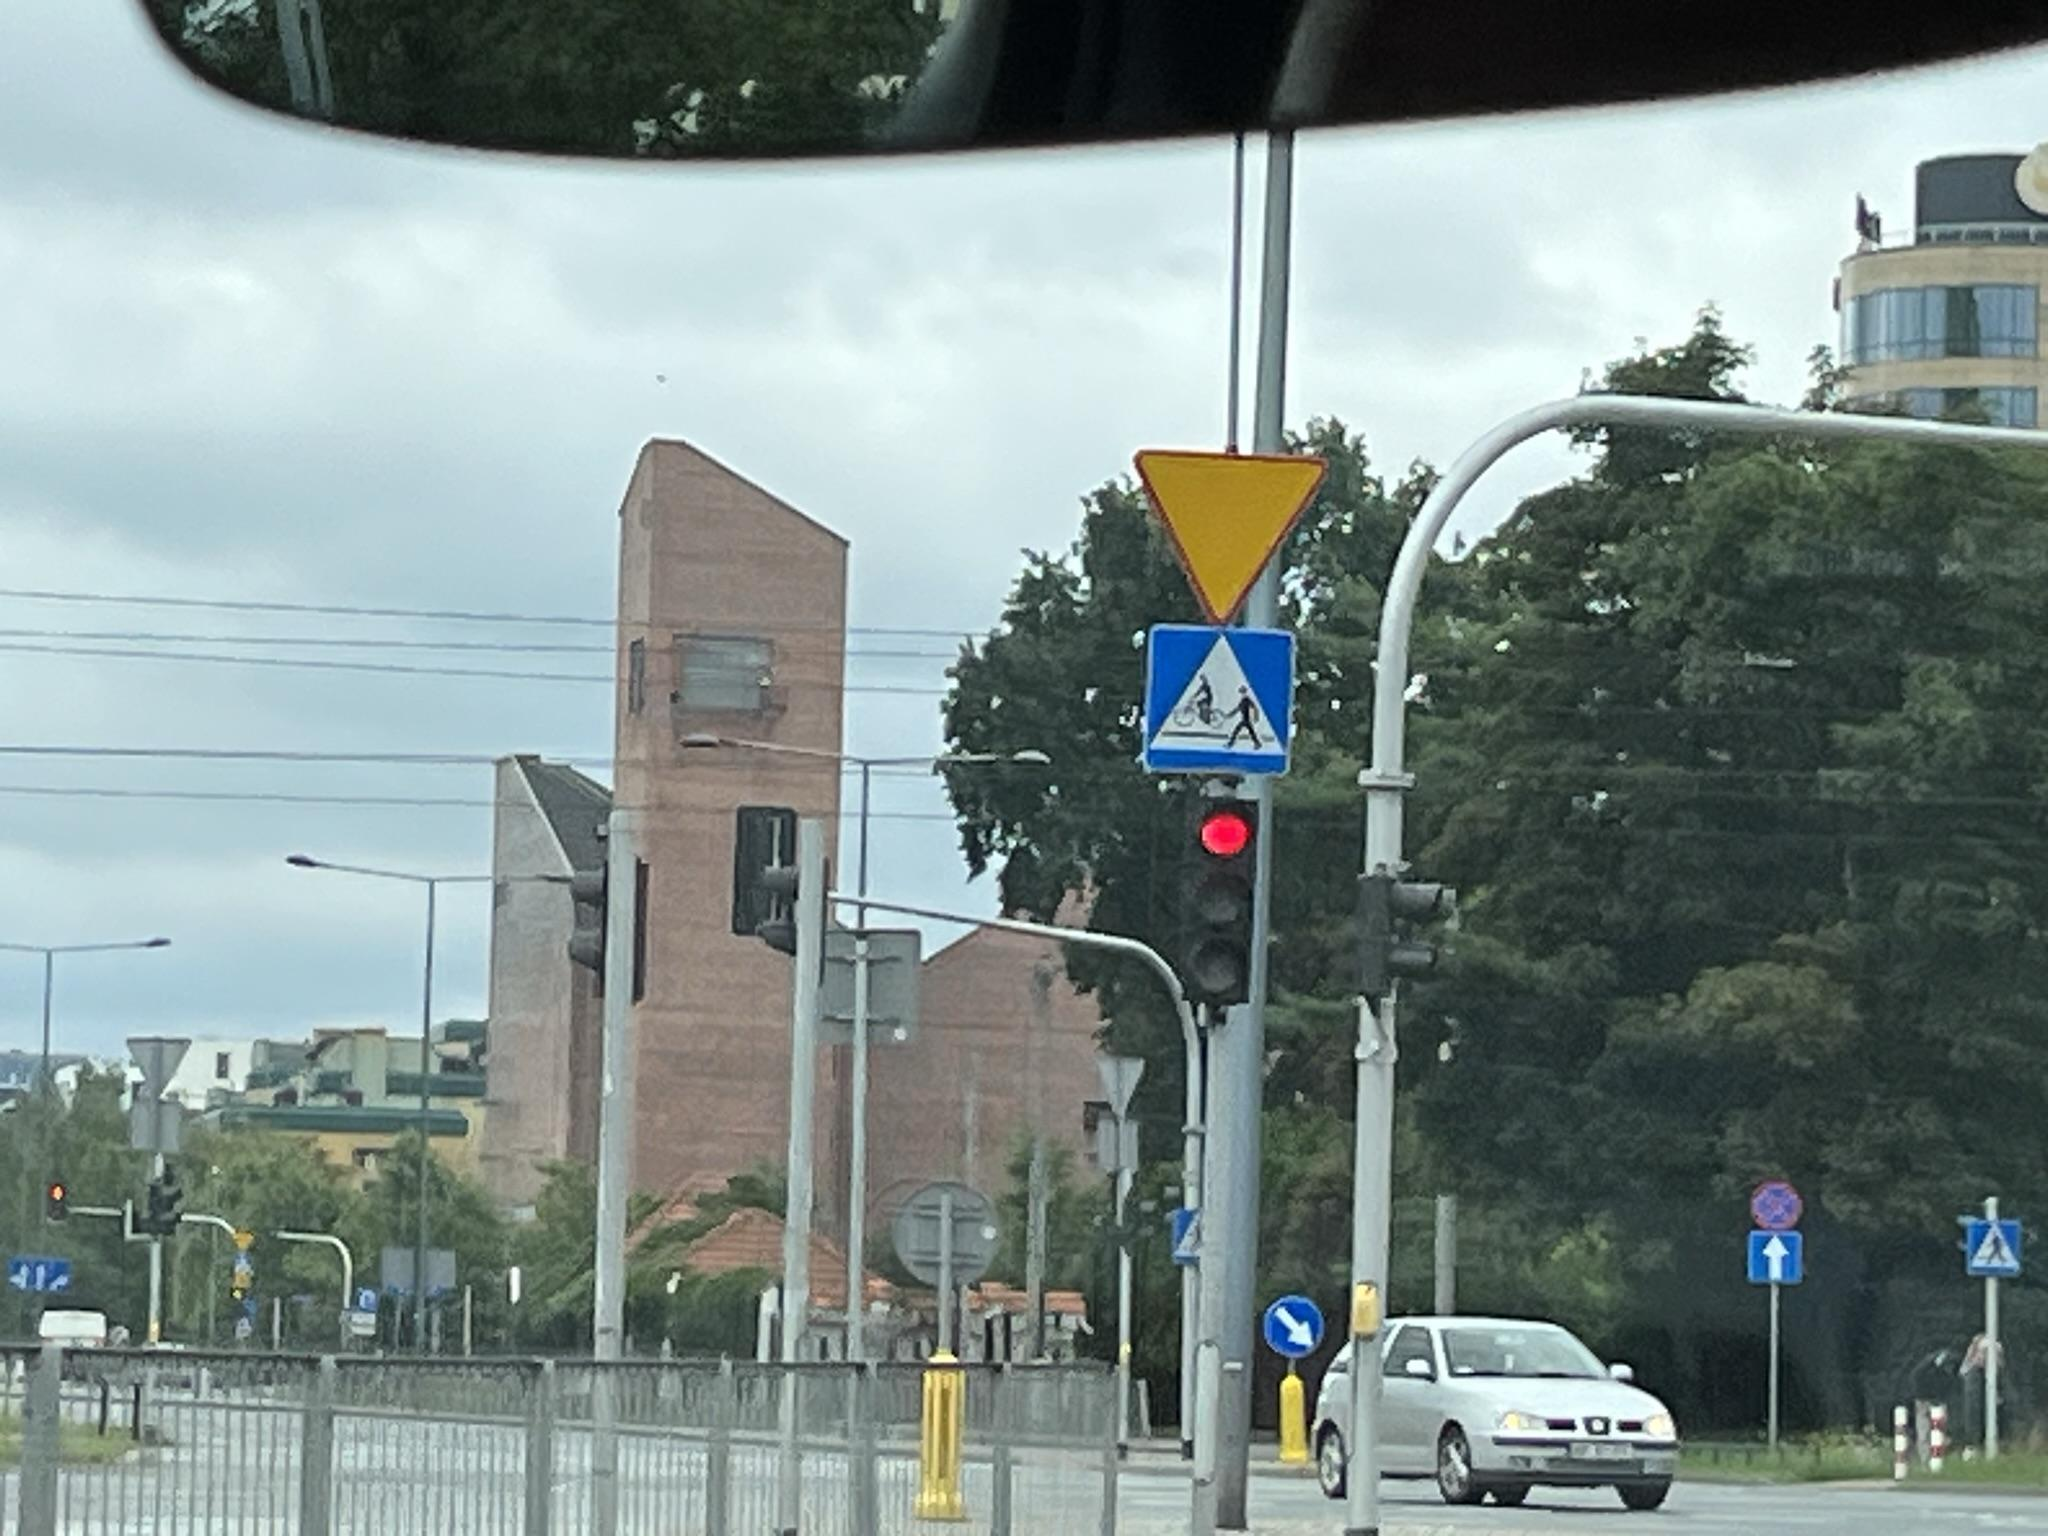information: (1143, 623, 1292, 776), (1966, 1220, 2022, 1278), (1750, 1229, 1803, 1286), (1174, 1208, 1205, 1262), (232, 1255, 255, 1275)
mandatory: (1263, 1292, 1326, 1360)
other: (3, 1258, 73, 1297)
prohibitory: (1750, 1179, 1804, 1233)
warning: (1132, 449, 1332, 626), (232, 1234, 255, 1252), (232, 1273, 255, 1288)
